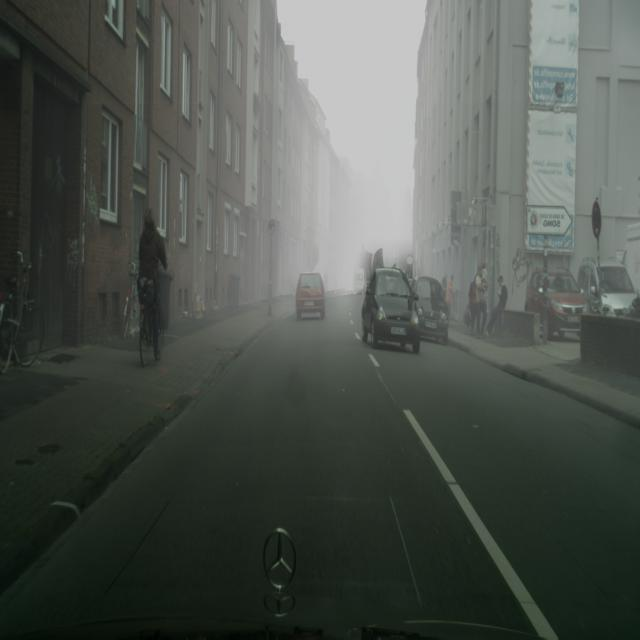car: (0, 249, 42, 374), (138, 273, 163, 366), (122, 264, 142, 340)
person: (138, 207, 168, 357), (478, 268, 499, 338), (486, 275, 508, 336), (473, 261, 489, 338), (464, 278, 478, 334), (445, 274, 454, 320)
truck: (361, 266, 420, 353), (525, 268, 588, 341), (577, 258, 638, 317), (413, 276, 449, 345), (295, 271, 326, 320)
